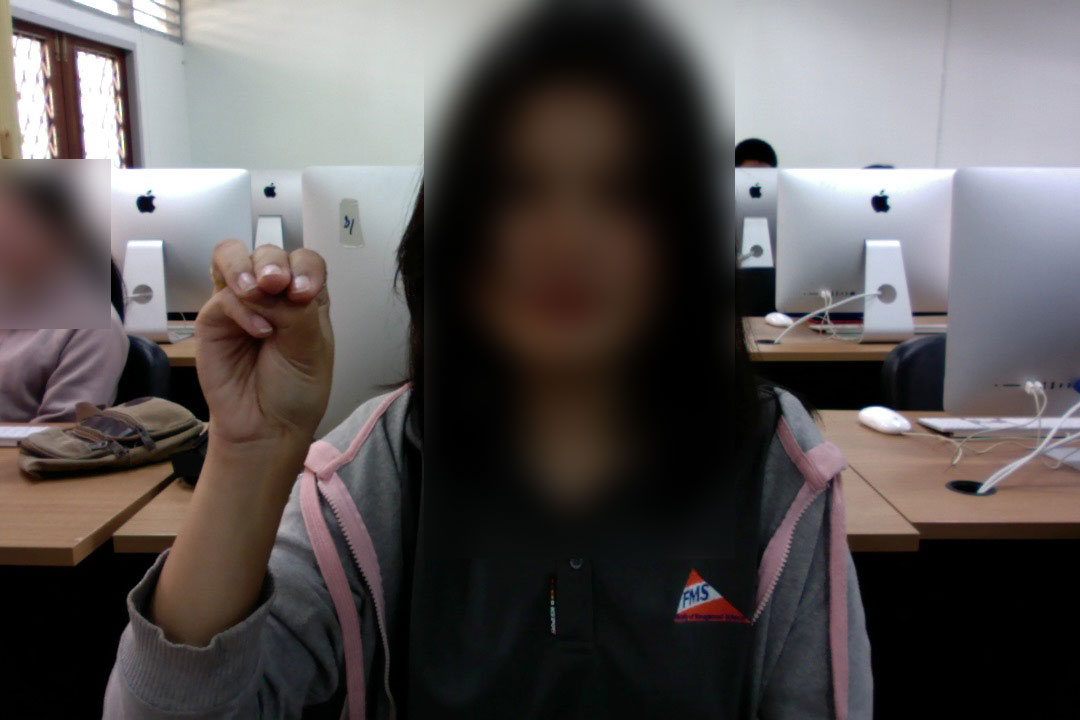mor: (190, 225, 343, 456)
